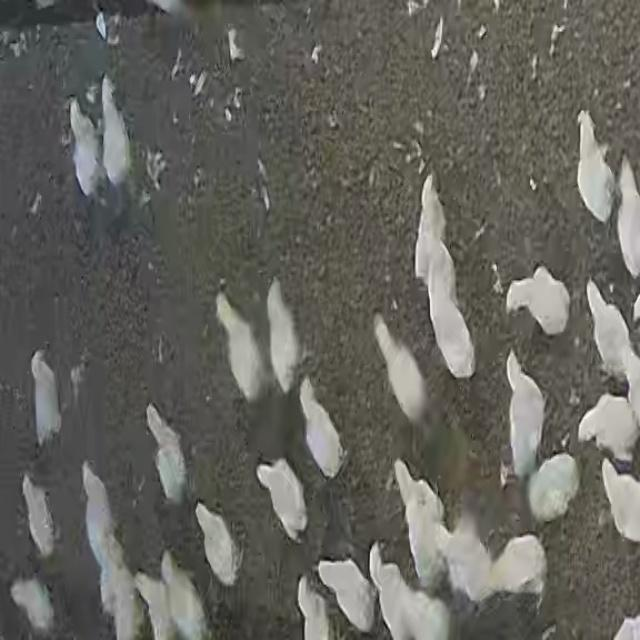chicken: (422, 253, 489, 379), (372, 314, 432, 432), (214, 292, 270, 407), (584, 279, 638, 389), (506, 348, 546, 486), (506, 263, 574, 336), (494, 536, 561, 610), (298, 375, 344, 481), (574, 108, 615, 224), (30, 341, 76, 442), (146, 402, 190, 507), (160, 550, 211, 639), (255, 458, 309, 542), (82, 463, 126, 565), (264, 278, 304, 388), (318, 560, 382, 628), (192, 503, 241, 588), (415, 172, 448, 295), (61, 93, 101, 193), (100, 77, 136, 182), (391, 461, 452, 521), (530, 449, 580, 522), (615, 158, 640, 284), (21, 474, 57, 561)
